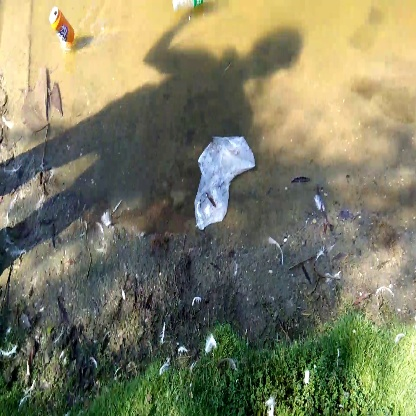plastic-bag: (190, 134, 265, 236)
